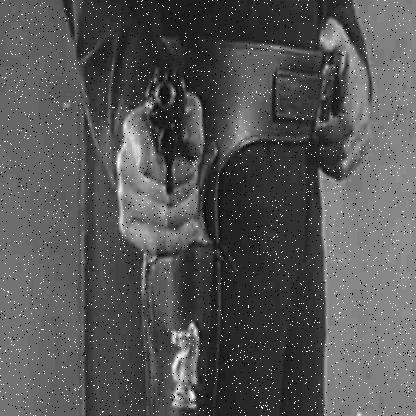pistol: (148, 65, 190, 201)
